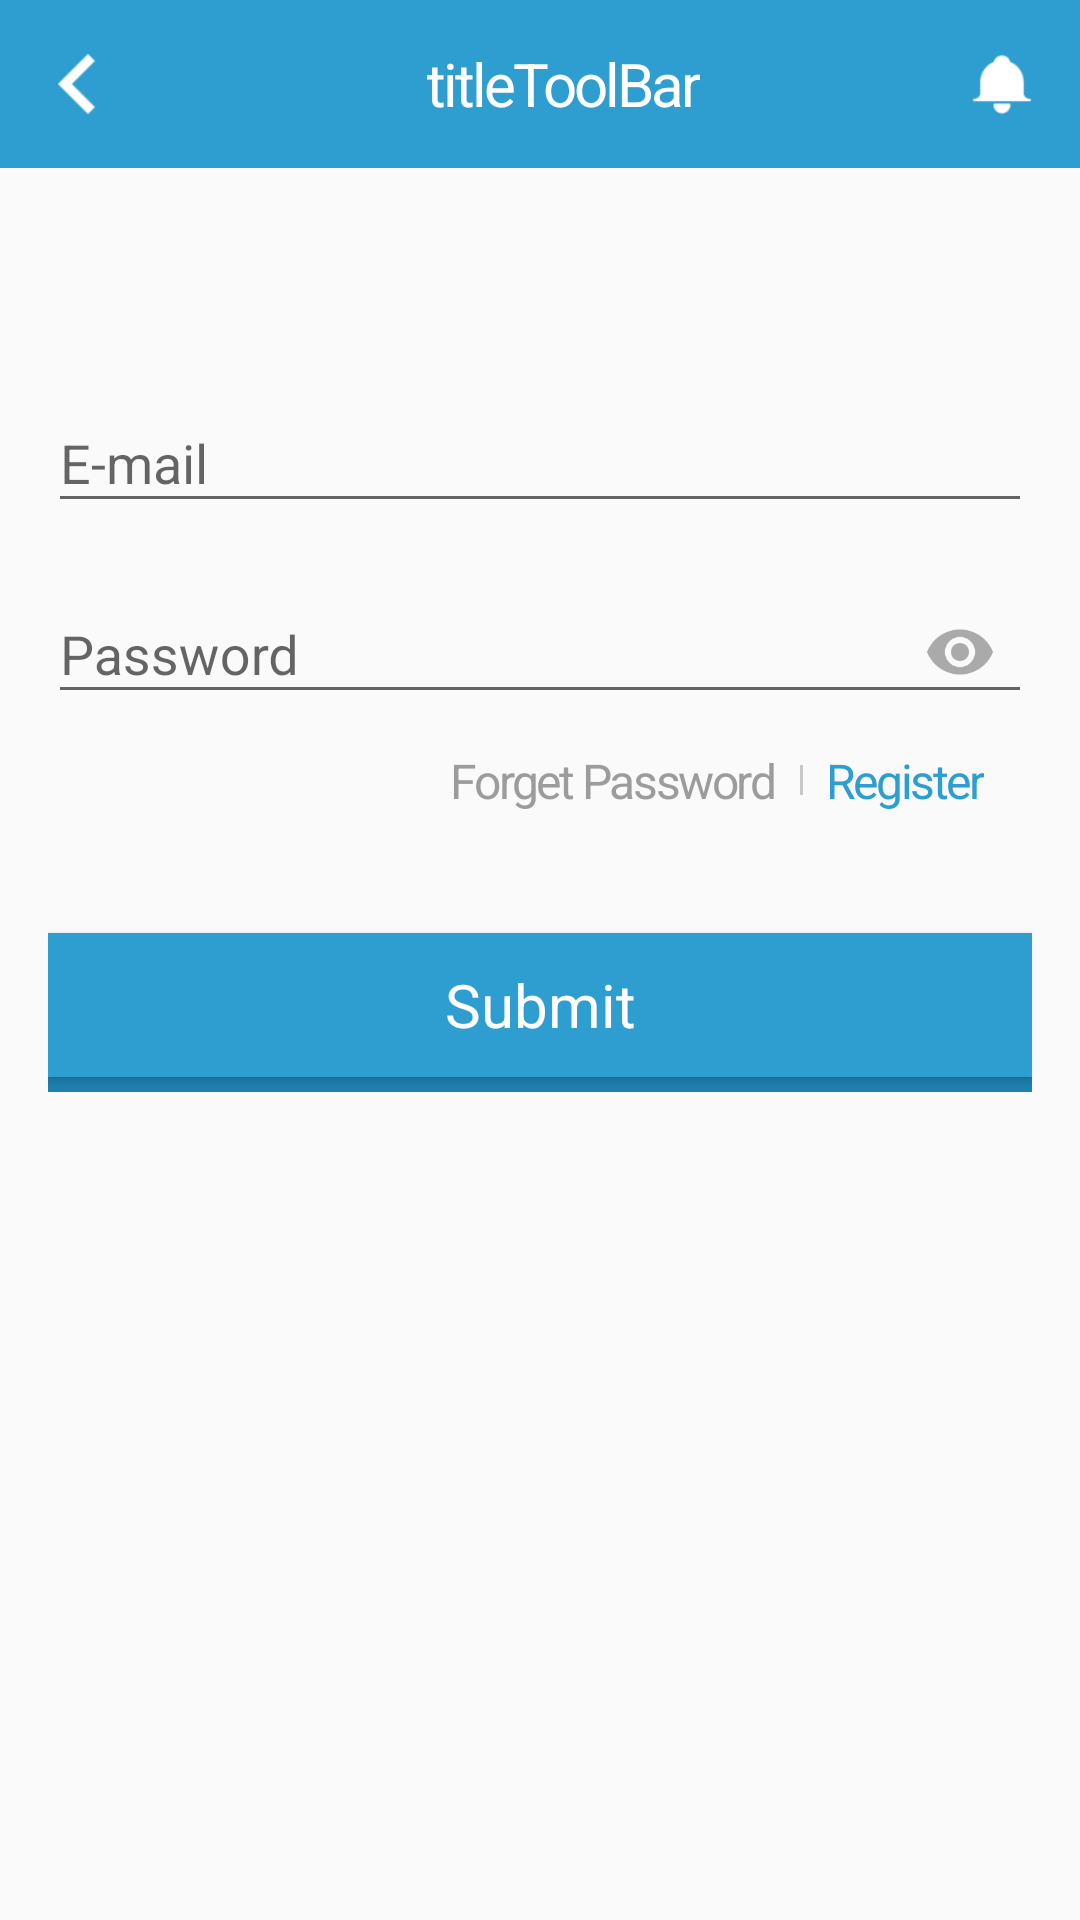

Icon bounding boxes for this 1080px×1920px phone screenshot, format detection(x1, y1, x2, y2):
alert: detection(973, 55, 1031, 114)
back: detection(58, 54, 95, 114)
